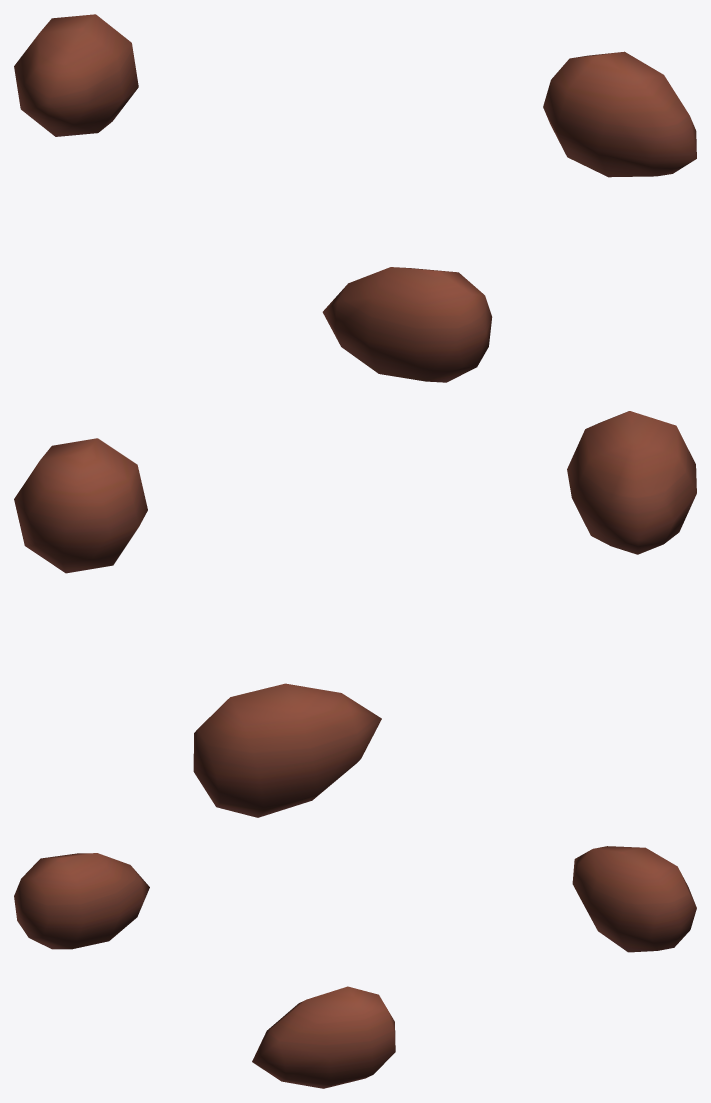
File: pineapple_seed.glb
3 views of the same model, one above another, from view 1: azimuth 30°, elevation 25°; view 2: azimuth 150°, elevation 25°; view 3: azimuth 270°, elevation 25° (orthographic). The views are drawn at different scales.
Visible parts, largest first — view 1: SM_Pineapple_Seed2; view 2: SM_Pineapple_Seed2; view 3: SM_Pineapple_Seed2.
Part boxes in pixels (box(x1,y1,x2,y2)): SM_Pineapple_Seed2: box(14, 14, 696, 382); SM_Pineapple_Seed2: box(14, 411, 696, 817); SM_Pineapple_Seed2: box(14, 846, 696, 1088).
Bounding box in the file's own units: 0.2017 × 0.0485 × 0.3005.
1 material, 1 textured.
